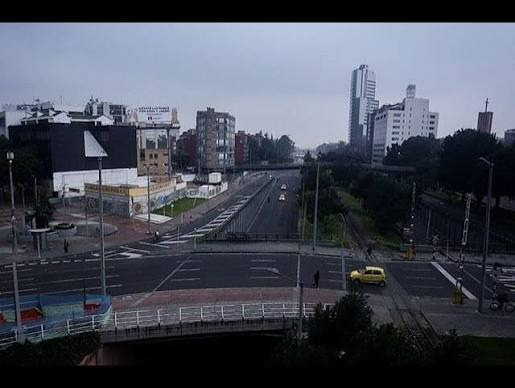car: (434, 258, 499, 312), (349, 265, 387, 288)
